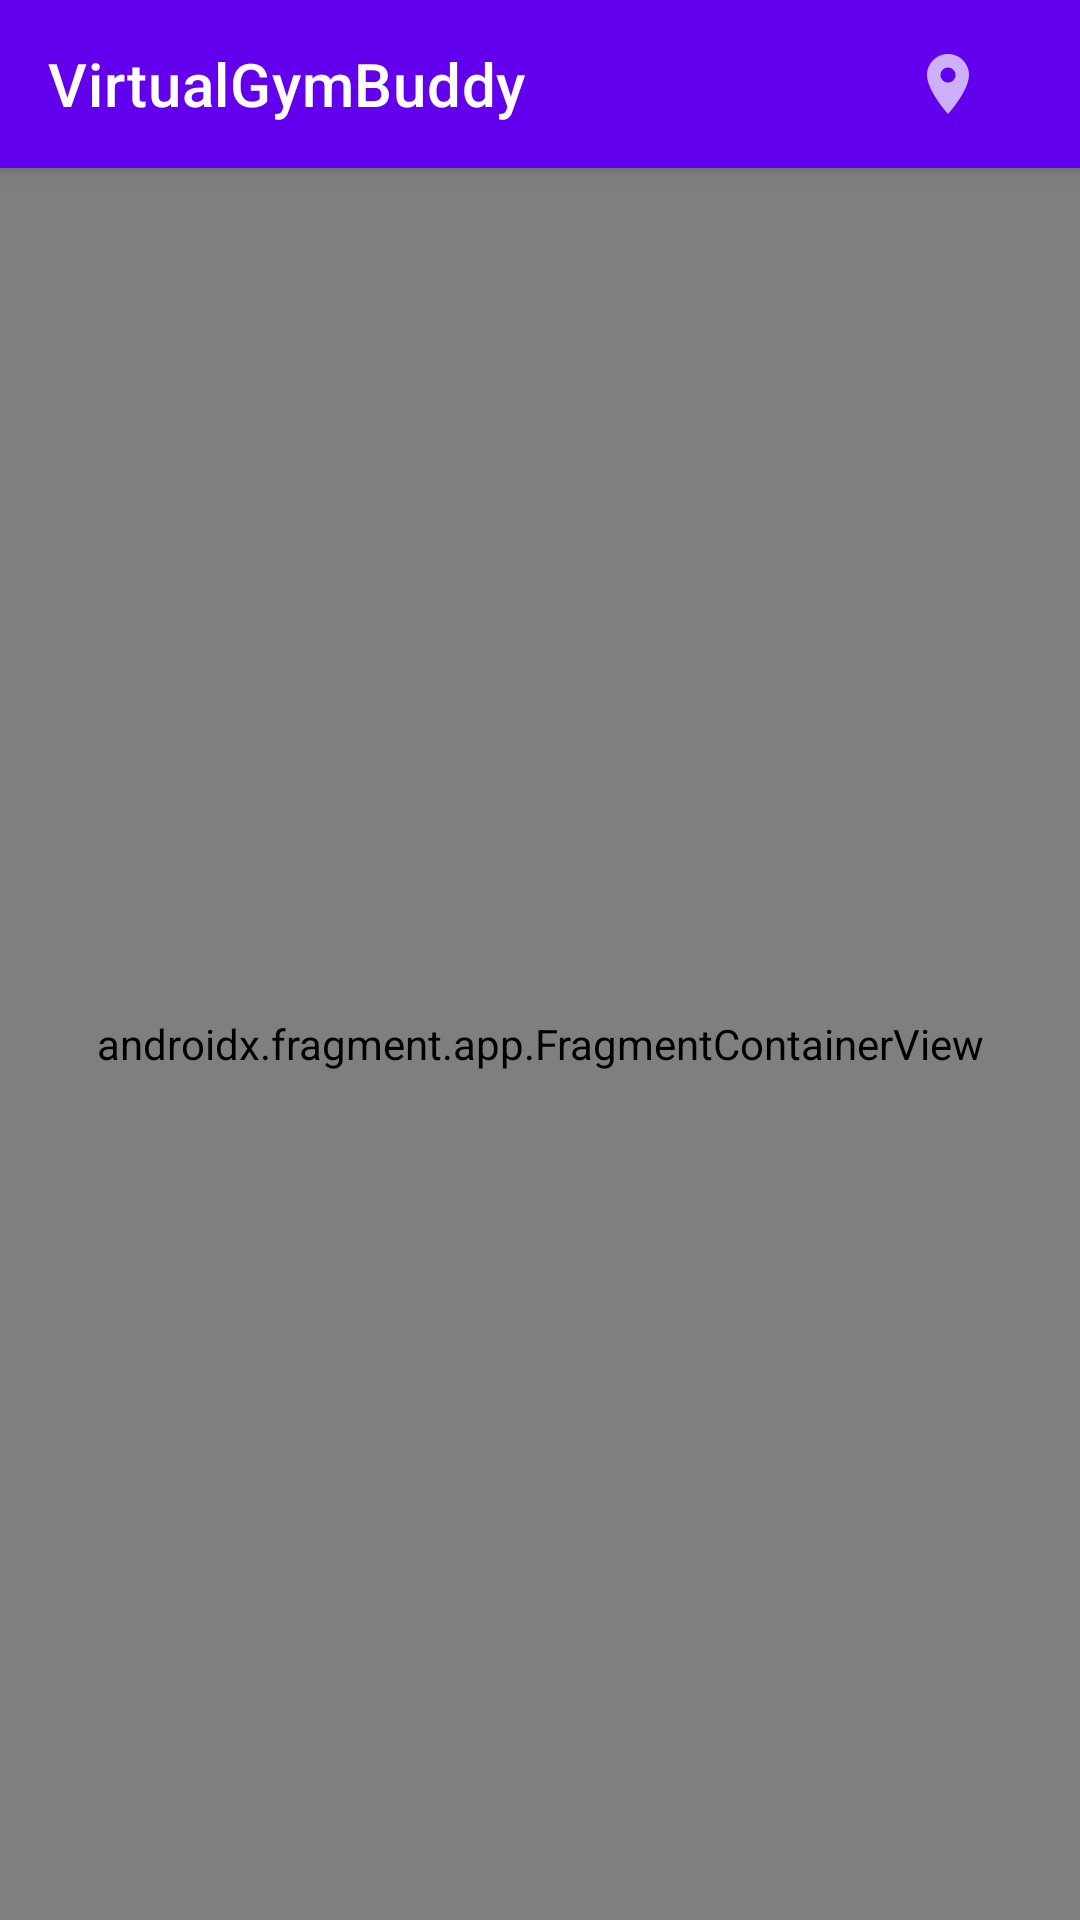

Screen size 1080*1920. Icon name, then its center in pixels as (x=x, y=y):
place: (x=948, y=84)
